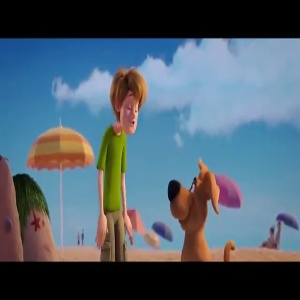Scooby: (166, 154, 221, 246)
Shagy: (105, 67, 149, 140)
